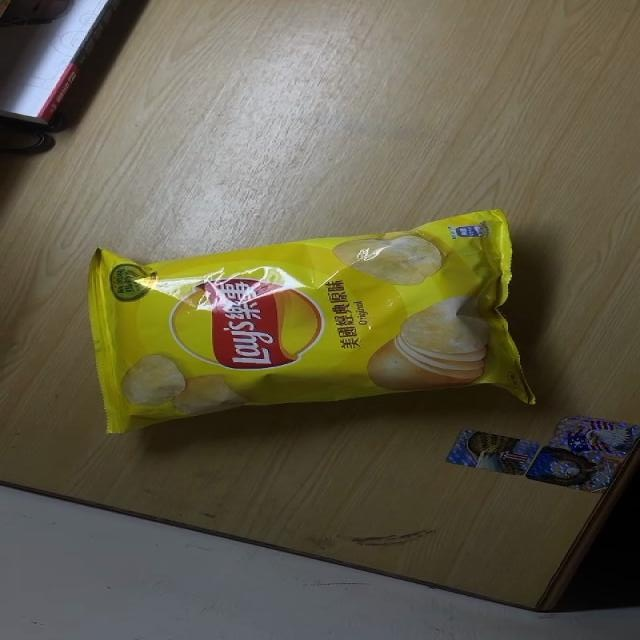Lay-s-original: (84, 208, 539, 435)
